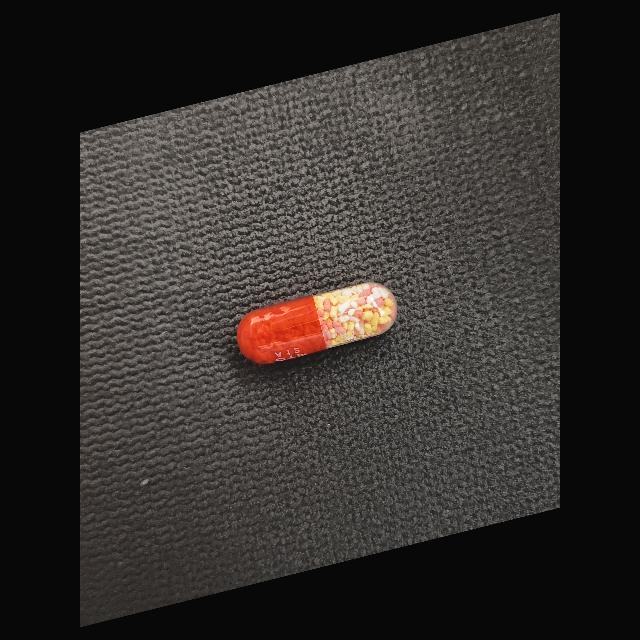Intact Capsule: (237, 282, 397, 364)
